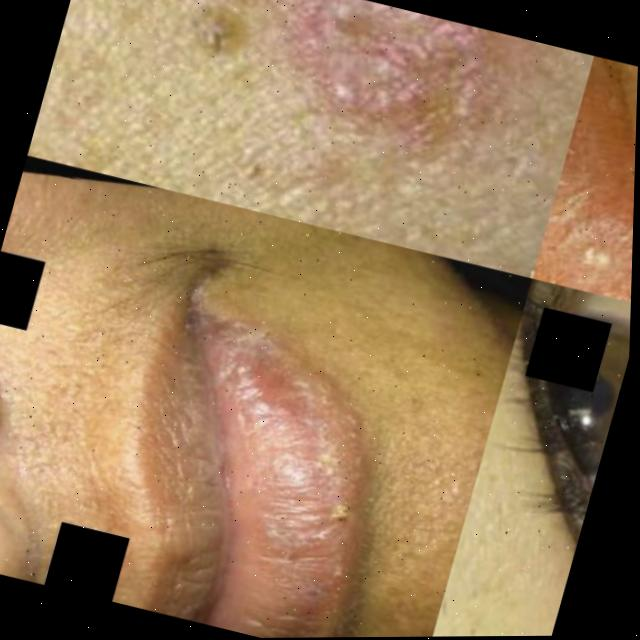lupus-detected: (128, 231, 461, 635), (35, 0, 588, 237), (26, 37, 240, 199), (275, 130, 483, 261), (531, 54, 638, 305)
